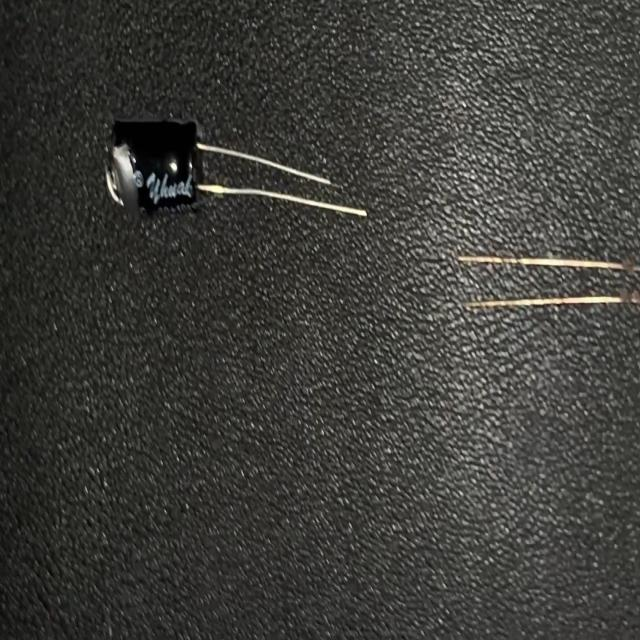capacitor: (99, 111, 371, 228)
cracked: (103, 140, 143, 222)
